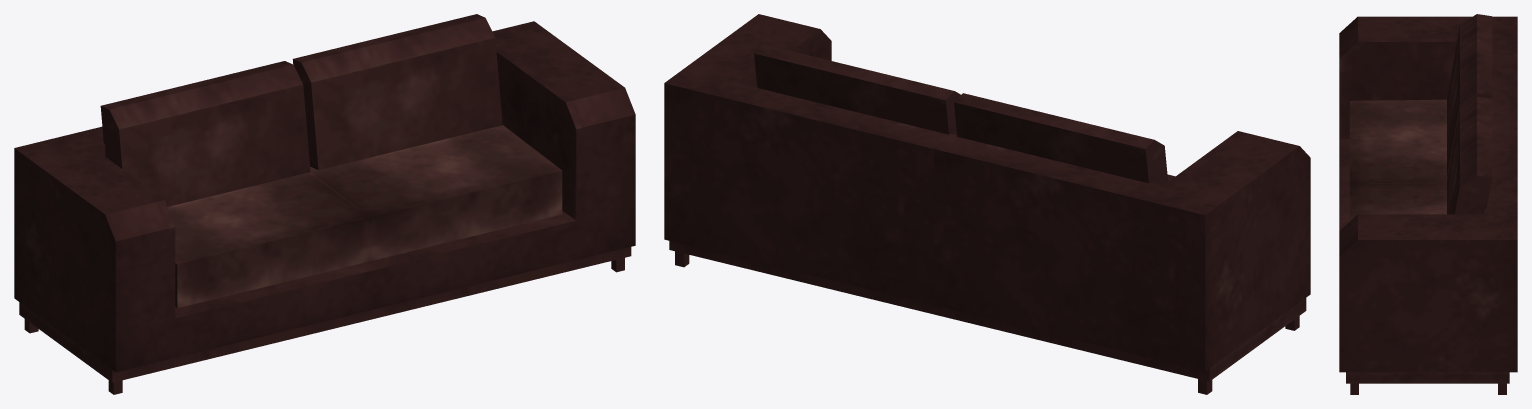
The model's file is DIVAN.fbx.
The picture shows the model from 3 angles, left to right: view 1: azimuth 30°, elevation 25°; view 2: azimuth 150°, elevation 25°; view 3: azimuth 270°, elevation 25°; orthographic projection. The views are drawn at different scales.
Parts seen in each view (by area): view 1: Cube.002; view 2: Cube.002; view 3: Cube.002.
Boxes of the visible parts, x1=… form: Cube.002: x1=14, y1=14, x2=635, y2=394; Cube.002: x1=664, y1=14, x2=1310, y2=394; Cube.002: x1=1339, y1=14, x2=1517, y2=394.
Bounding box in the file's own units: 268 × 106 × 90.57.
1 material, 1 textured.
